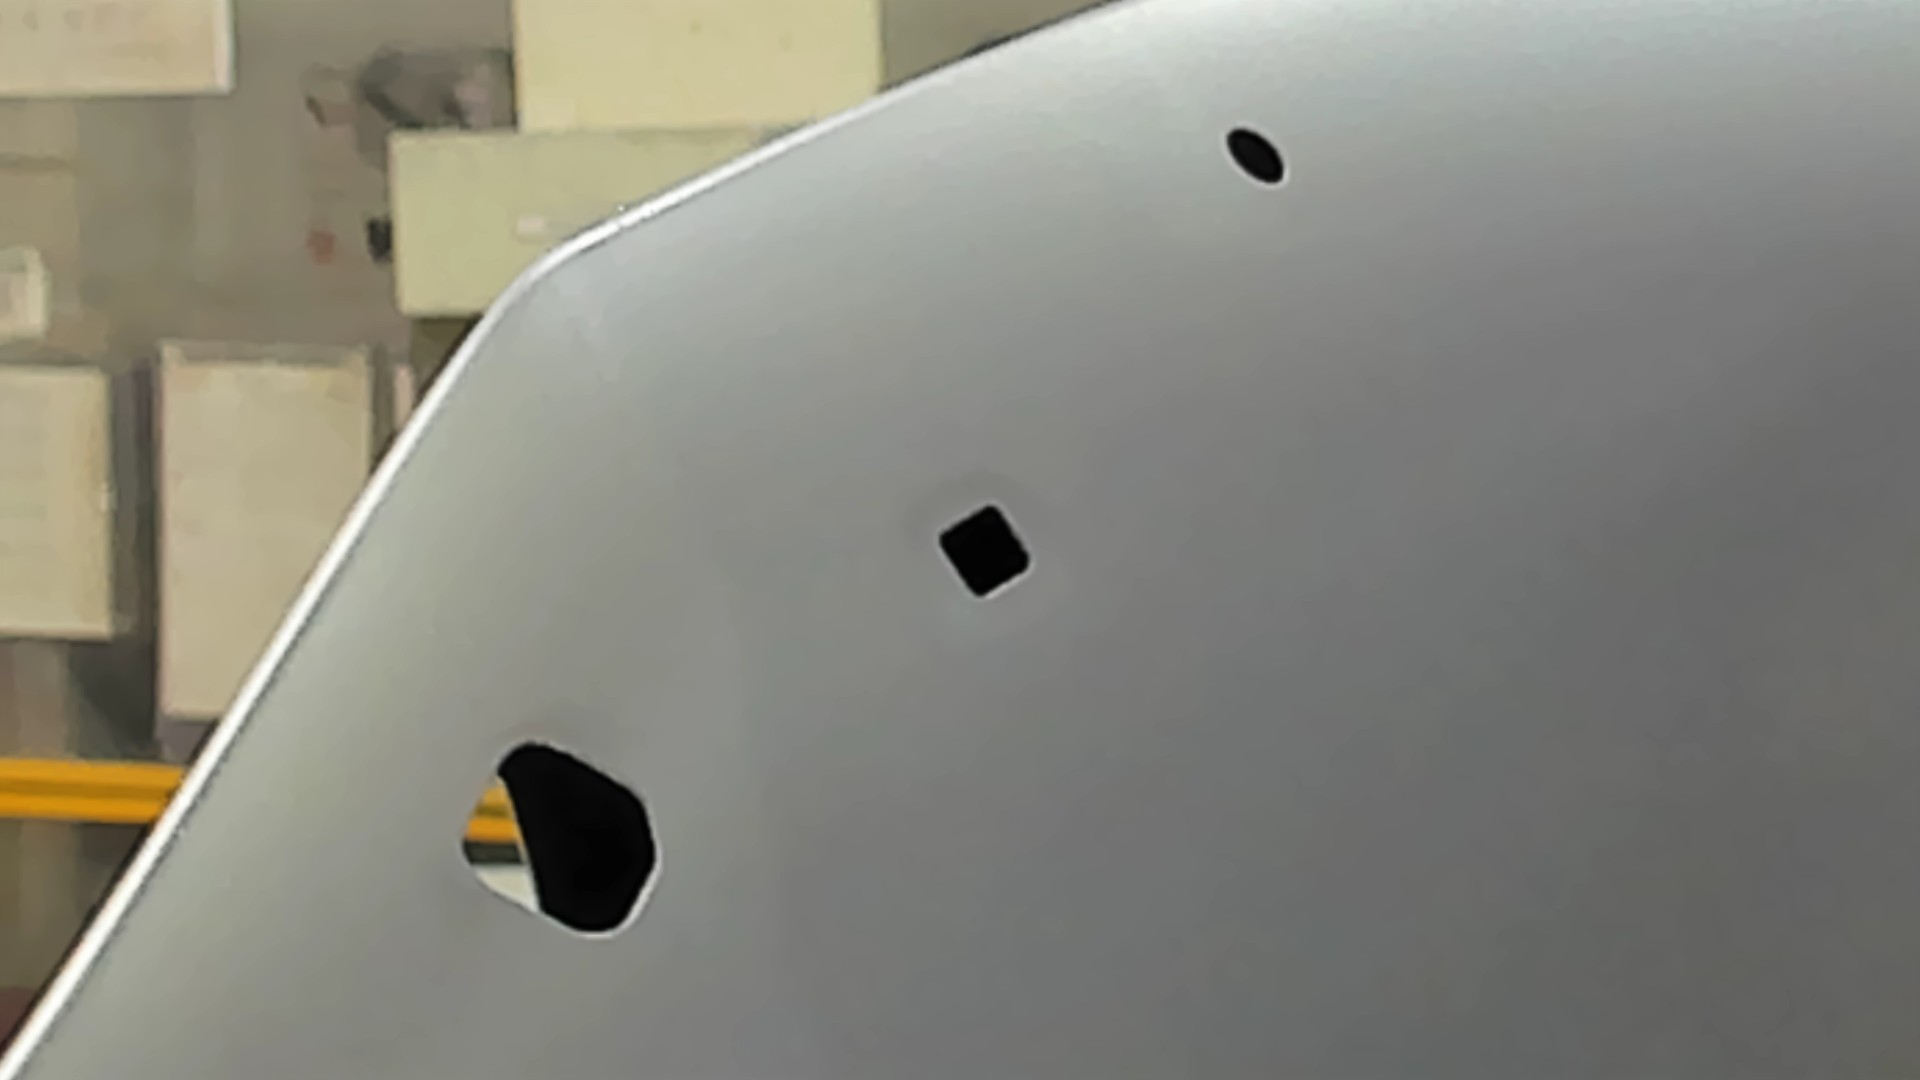chico: (1222, 124, 1287, 187)
grande: (459, 737, 661, 940)
mediano: (934, 500, 1034, 601)
